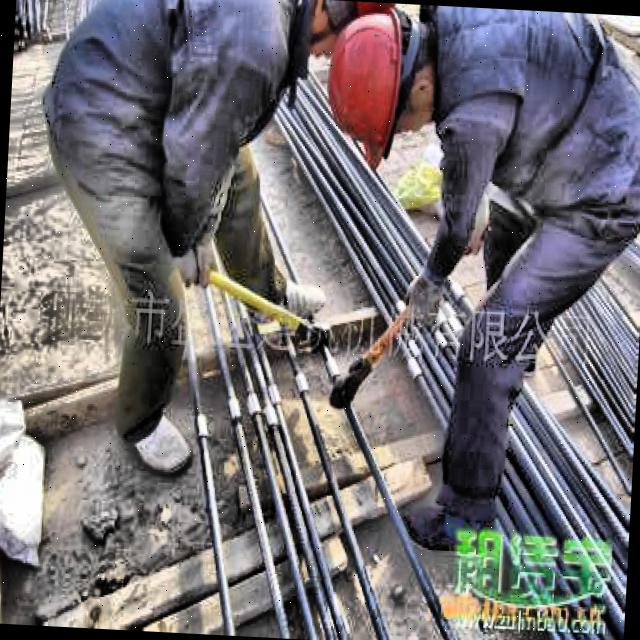helmet: (326, 13, 444, 172), (306, 1, 414, 57)
